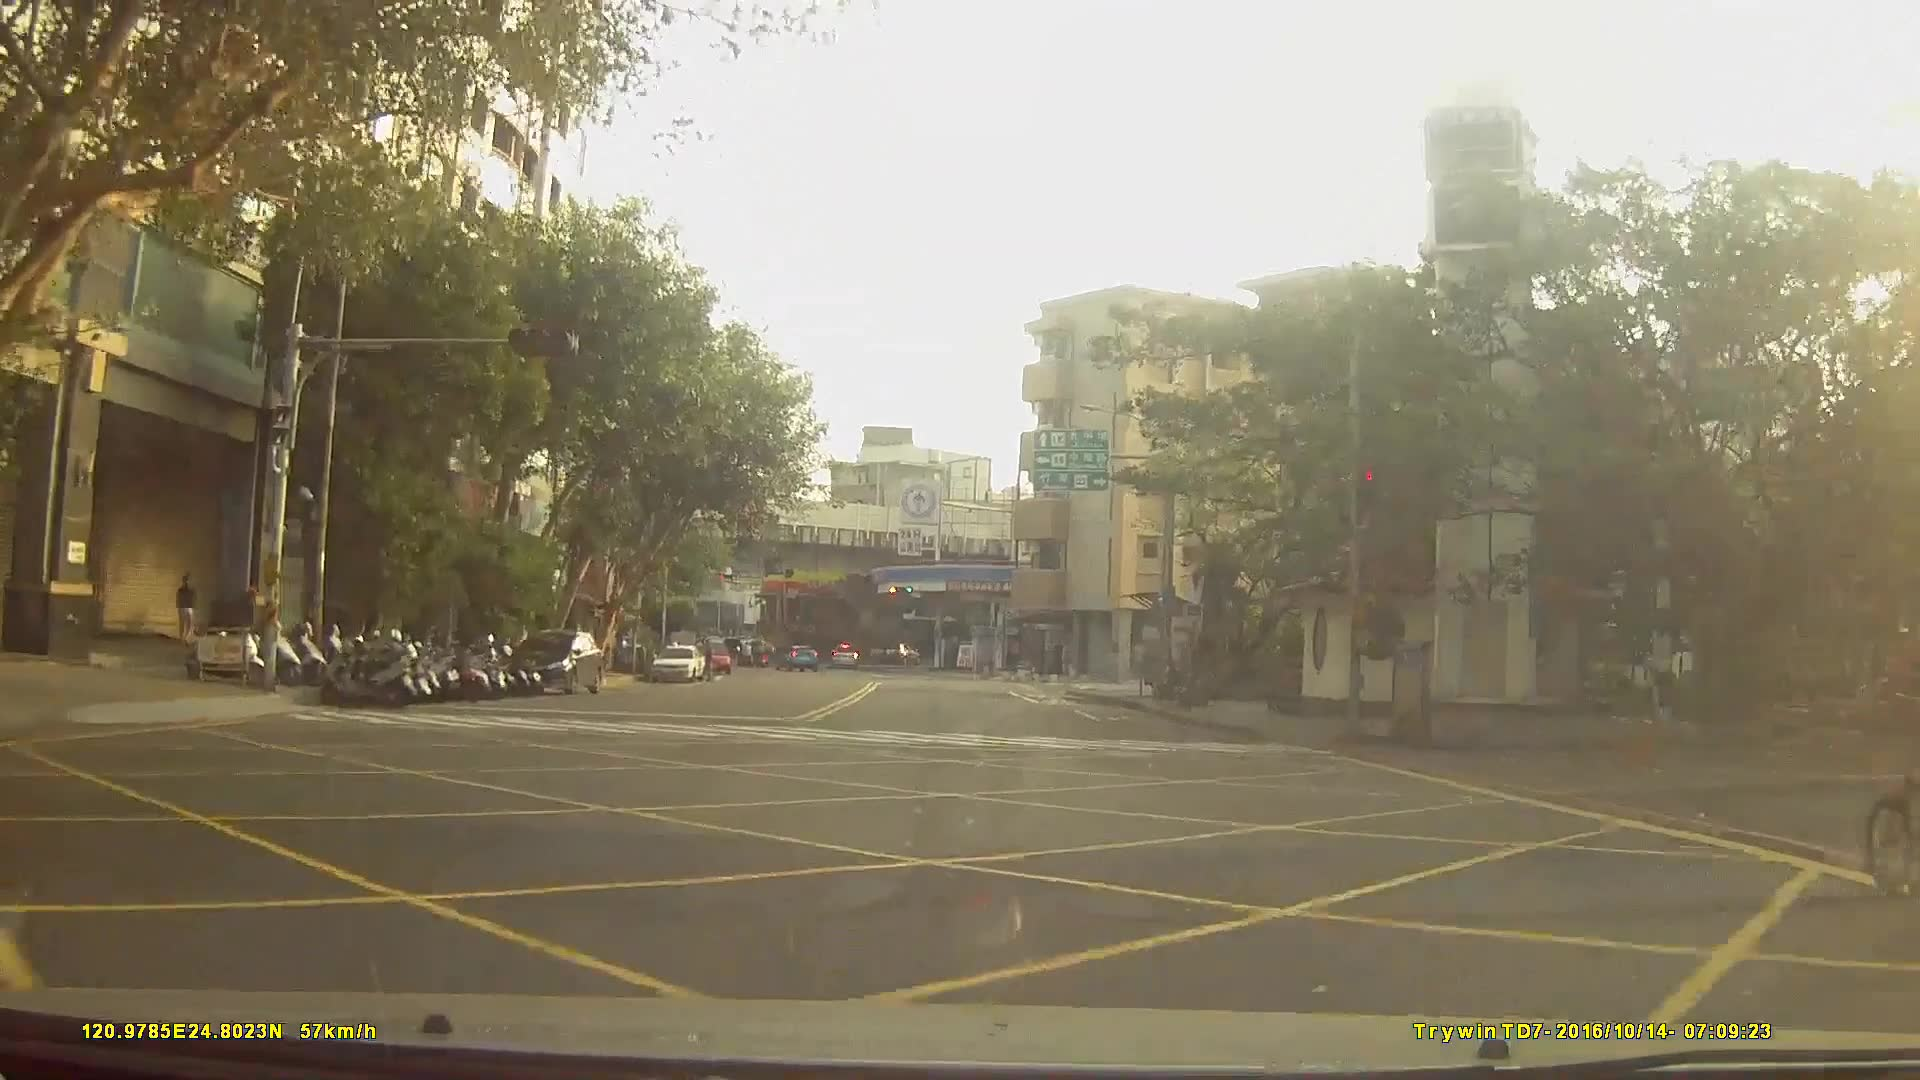pedestrian: (178, 573, 200, 647)
rider: (1869, 571, 1920, 885)
vehicle: (507, 627, 603, 696), (646, 641, 703, 681), (689, 639, 732, 676), (773, 640, 817, 670), (829, 641, 860, 669)
